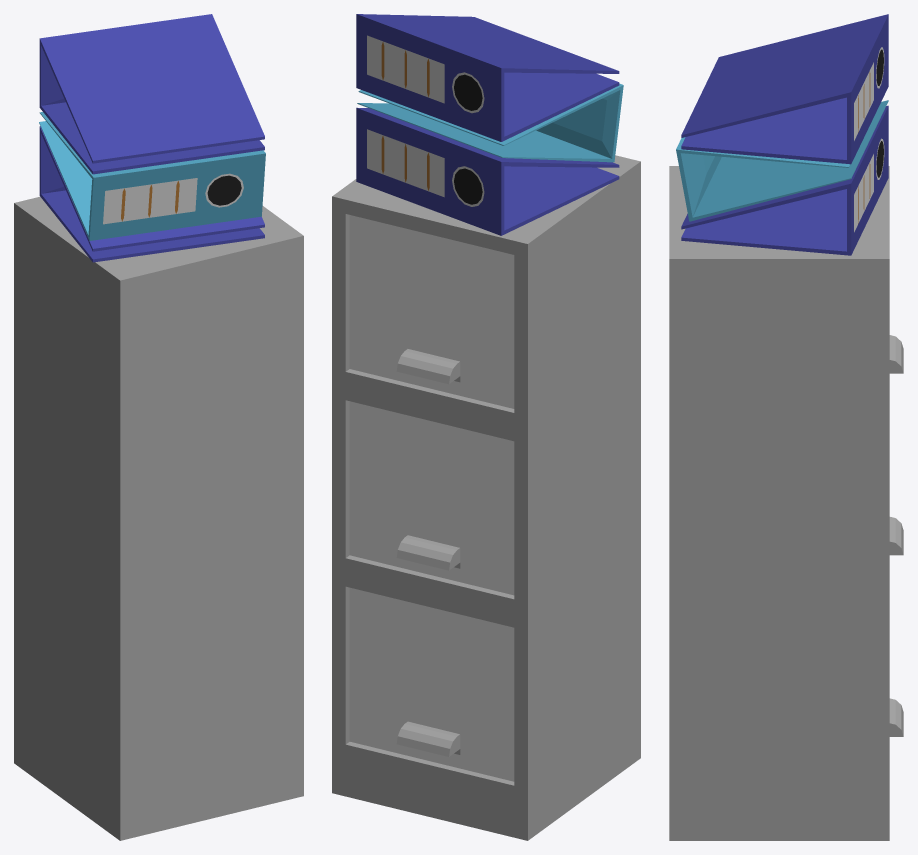
File: dolap_gray2.fbx
3 renders of one model, left to right at view 1: azimuth 30°, elevation 25°; view 2: azimuth 150°, elevation 25°; view 3: azimuth 270°, elevation 25°, orthographic. The views are drawn at different scales.
Visible parts, largest first — view 1: dolap_gray2; view 2: dolap_gray2; view 3: dolap_gray2.
Part boxes in pixels (box(x1,y1,x2,y2)): dolap_gray2: box(14, 14, 303, 840); dolap_gray2: box(332, 14, 640, 840); dolap_gray2: box(669, 14, 903, 840).
Bounding box in the file's own units: 51.68 × 188 × 53.43.
